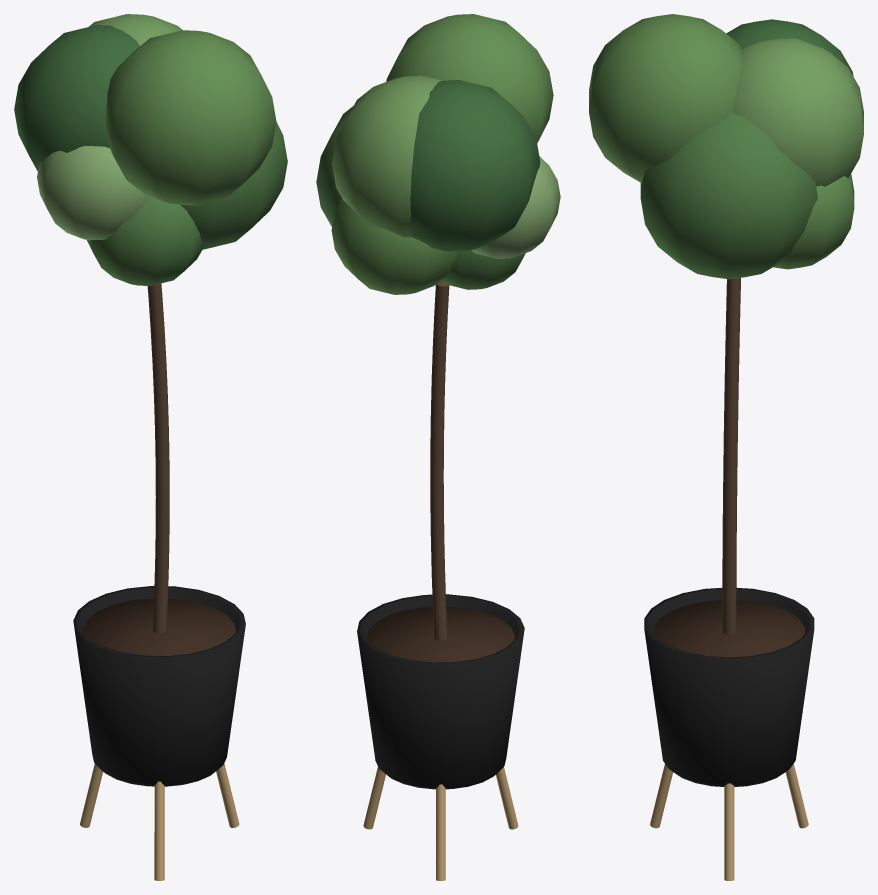
The model's file is i_plant_15.glb.
The picture shows the model from 3 angles, left to right: view 1: azimuth 30°, elevation 25°; view 2: azimuth 150°, elevation 25°; view 3: azimuth 270°, elevation 25°; orthographic projection. The views are drawn at different scales.
Parts seen in each view (by area): view 1: o.012, o.003, o.009, o.010, o.011, o.004, o.005, o.006, o.008, o.002, o, o.001; view 2: o.003, o.009, o.008, o.012, o.007, o.004, o.005, o.010, o.011, o.006, o.001, o (+1 smaller); view 3: o.003, o.006, o.012, o.008, o.004, o.005, o.007, o.009, o, o.001, o.002.
Part boxes in pixels (x1,y1,x2,y2): o.012: (106,30,276,205); o.003: (73,586,245,786); o.009: (14,25,139,171); o.010: (37,145,147,240); o.011: (87,195,203,285); o.004: (83,598,235,655); o.005: (147,283,169,633); o.006: (180,122,287,249); o.008: (89,14,182,45); o.002: (154,781,164,880); o: (216,763,239,827); o.001: (80,763,102,827); o.003: (357,594,524,789); o.009: (410,80,540,251); o.008: (332,75,441,237); o.012: (386,14,553,143); o.007: (331,198,459,294); o.004: (366,606,515,662); o.005: (430,280,449,640); o.010: (471,156,560,258); o.011: (441,250,525,289); o.006: (316,106,353,226); o.001: (436,784,445,880); o: (363,767,385,829); o.003: (644,588,814,786); o.006: (640,112,817,279); o.012: (589,14,742,182); o.008: (733,38,863,186); o.004: (654,600,804,657); o.005: (722,278,740,634); o.007: (773,173,854,269); o.009: (726,19,853,76); o: (724,783,734,880); o.001: (785,764,808,828); o.002: (650,764,672,828).
Bounding box in the file's own units: 0.5252 × 1.8 × 0.5436.
